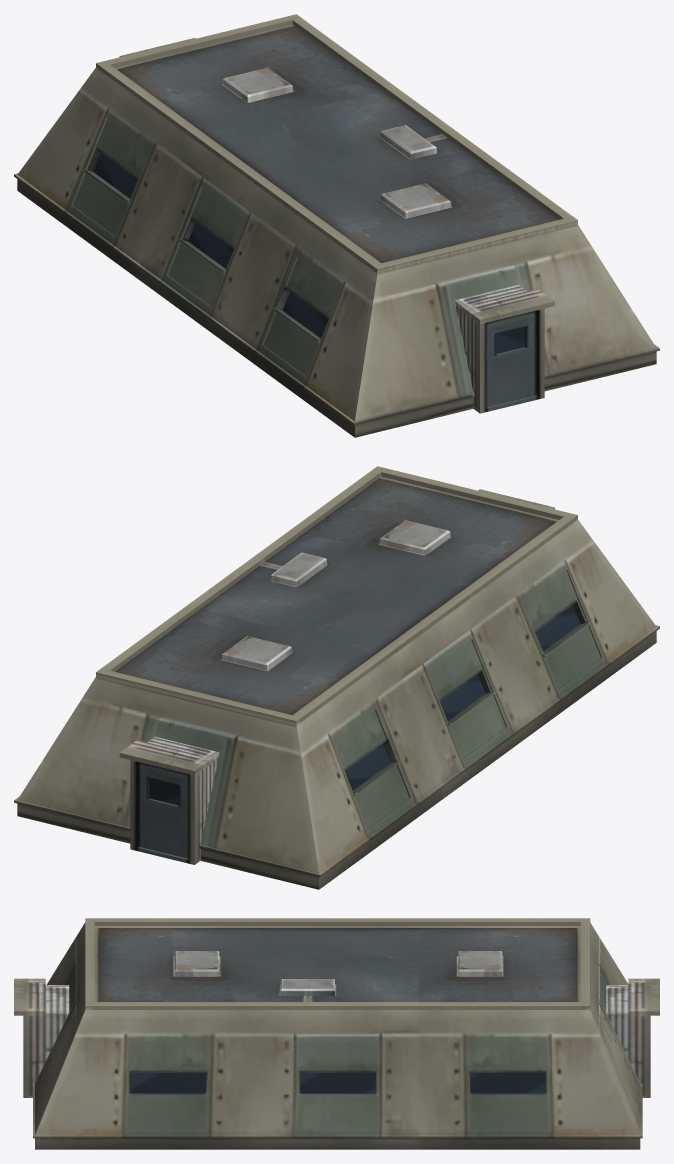
The model's file is barracks_cad.glb.
3 views of the same model, one above another, from view 1: azimuth 30°, elevation 25°; view 2: azimuth 150°, elevation 25°; view 3: azimuth 270°, elevation 25° (orthographic). The views are drawn at different scales.
Parts seen in each view (by area): view 1: Barracks; view 2: Barracks; view 3: Barracks.
Boxes of the visible parts, box(x1,y1,x2,y2) form: Barracks: box(14, 14, 659, 437); Barracks: box(14, 466, 659, 889); Barracks: box(14, 918, 659, 1149).
Bounding box in the file's own units: 8.54 × 3.68 × 17.41.
1 material, 1 textured.
